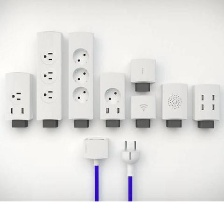three_eye_plug: (34, 29, 64, 122), (67, 30, 95, 121), (2, 69, 33, 122), (96, 69, 126, 122), (190, 81, 221, 121)
